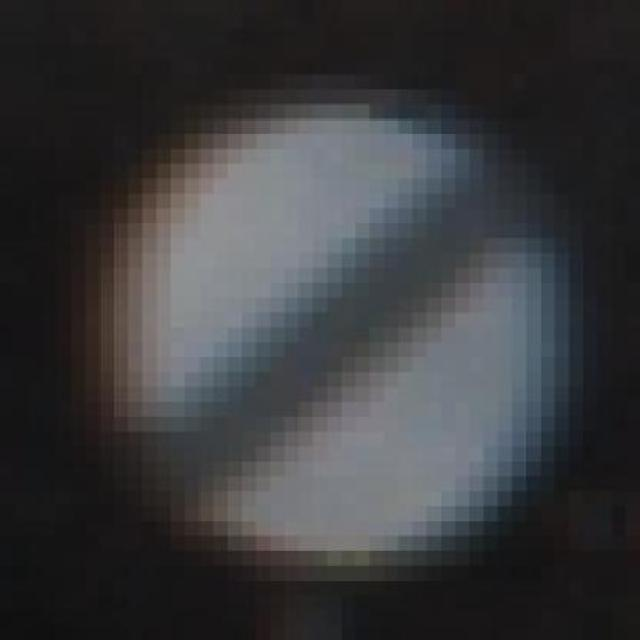End of all speed and passing limits: (57, 59, 583, 566)
